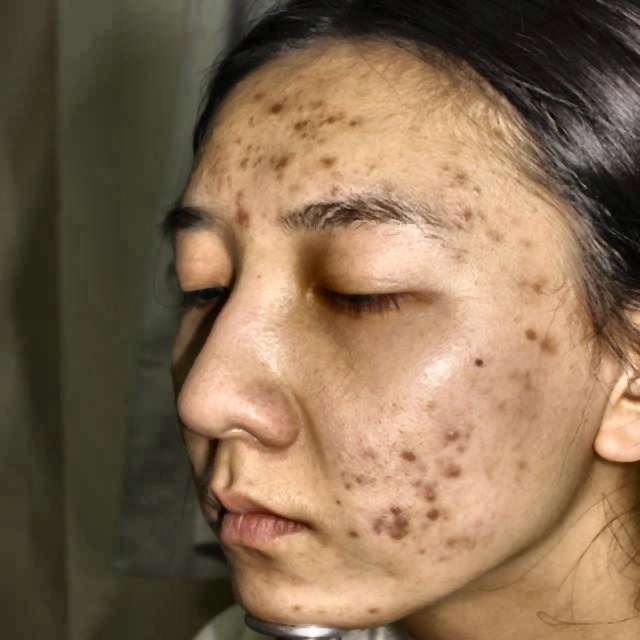pustule: (273, 147, 308, 180), (314, 152, 349, 184), (289, 113, 320, 146), (237, 154, 268, 184), (366, 515, 401, 539), (339, 522, 369, 550), (513, 322, 544, 348), (440, 461, 473, 484), (319, 103, 347, 130), (437, 425, 470, 445), (396, 441, 426, 463), (418, 503, 448, 525), (265, 96, 297, 115), (412, 486, 445, 504), (238, 198, 260, 225), (394, 510, 420, 532), (462, 204, 486, 224), (386, 526, 408, 546), (386, 493, 406, 512), (530, 280, 549, 298)
